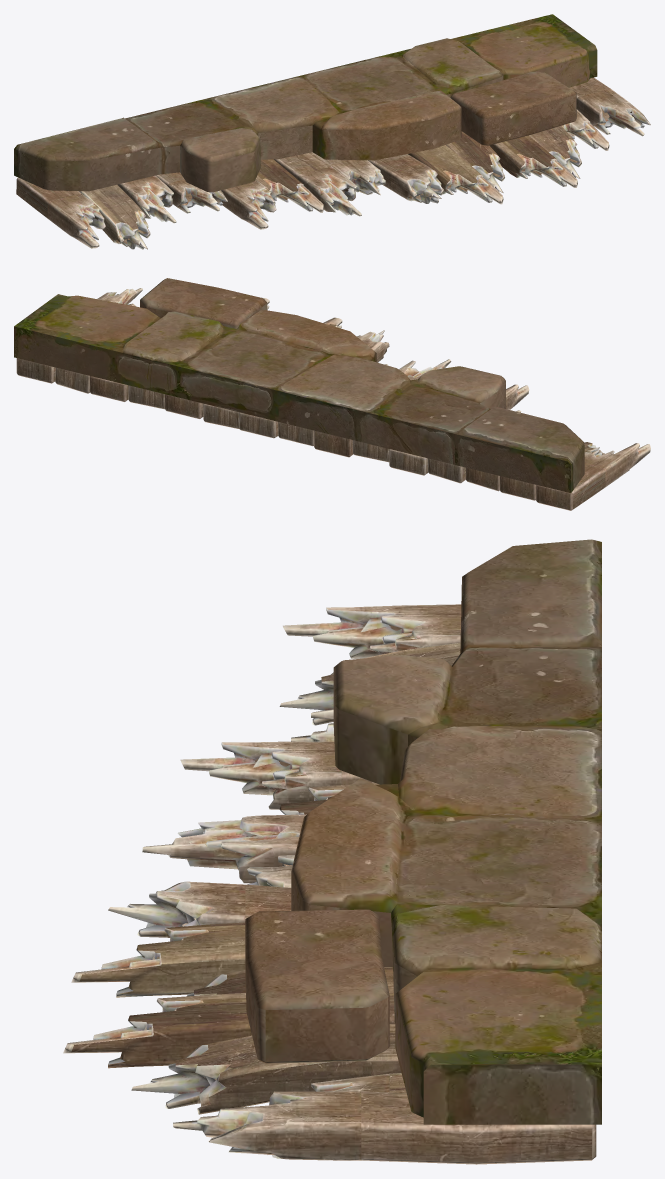
3 views of the same model, one above another, from view 1: azimuth 30°, elevation 25°; view 2: azimuth 150°, elevation 25°; view 3: azimuth 270°, elevation 25° (orthographic). The views are drawn at different scales.
Visible parts, largest first — view 1: SM_Human_Ruins_Floor_Dmg_02_LOD0; view 2: SM_Human_Ruins_Floor_Dmg_02_LOD0; view 3: SM_Human_Ruins_Floor_Dmg_02_LOD0.
Part boxes in pixels (bbox=[...]): SM_Human_Ruins_Floor_Dmg_02_LOD0: bbox=[14, 14, 650, 249]; SM_Human_Ruins_Floor_Dmg_02_LOD0: bbox=[14, 278, 650, 510]; SM_Human_Ruins_Floor_Dmg_02_LOD0: bbox=[63, 539, 601, 1164].
Size of the model in its own units: 4 by 0.4869 by 1.73.
Materials: 2 (2 with a texture image).
